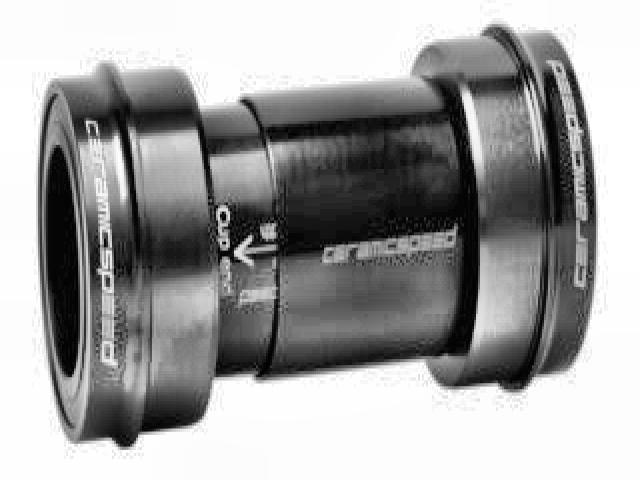bottom_bracket: (35, 19, 599, 449)
